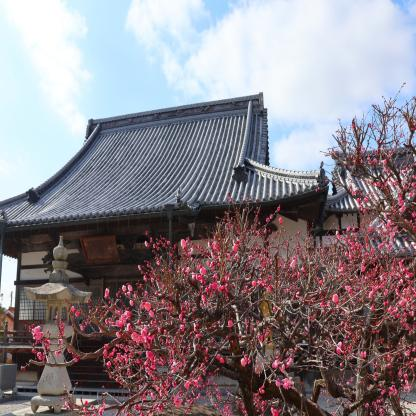Ume: (19, 187, 340, 416), (313, 82, 416, 416)
